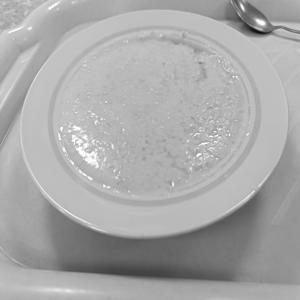porridge: (47, 15, 274, 211)
